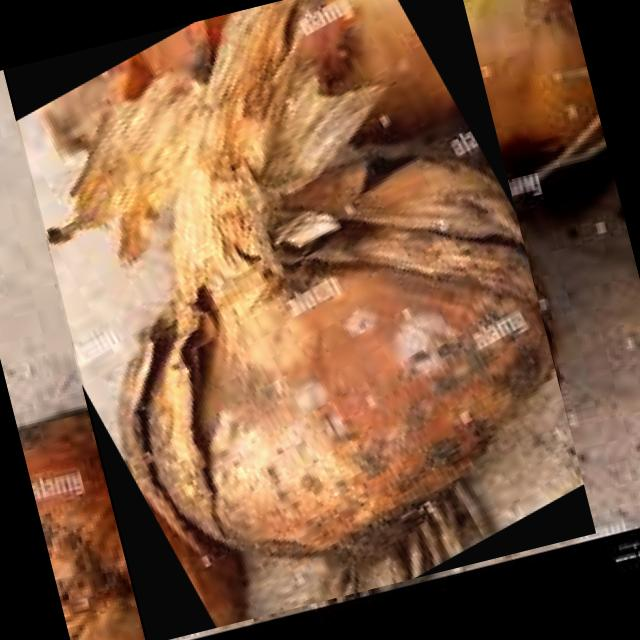rotten: (47, 0, 554, 581)
